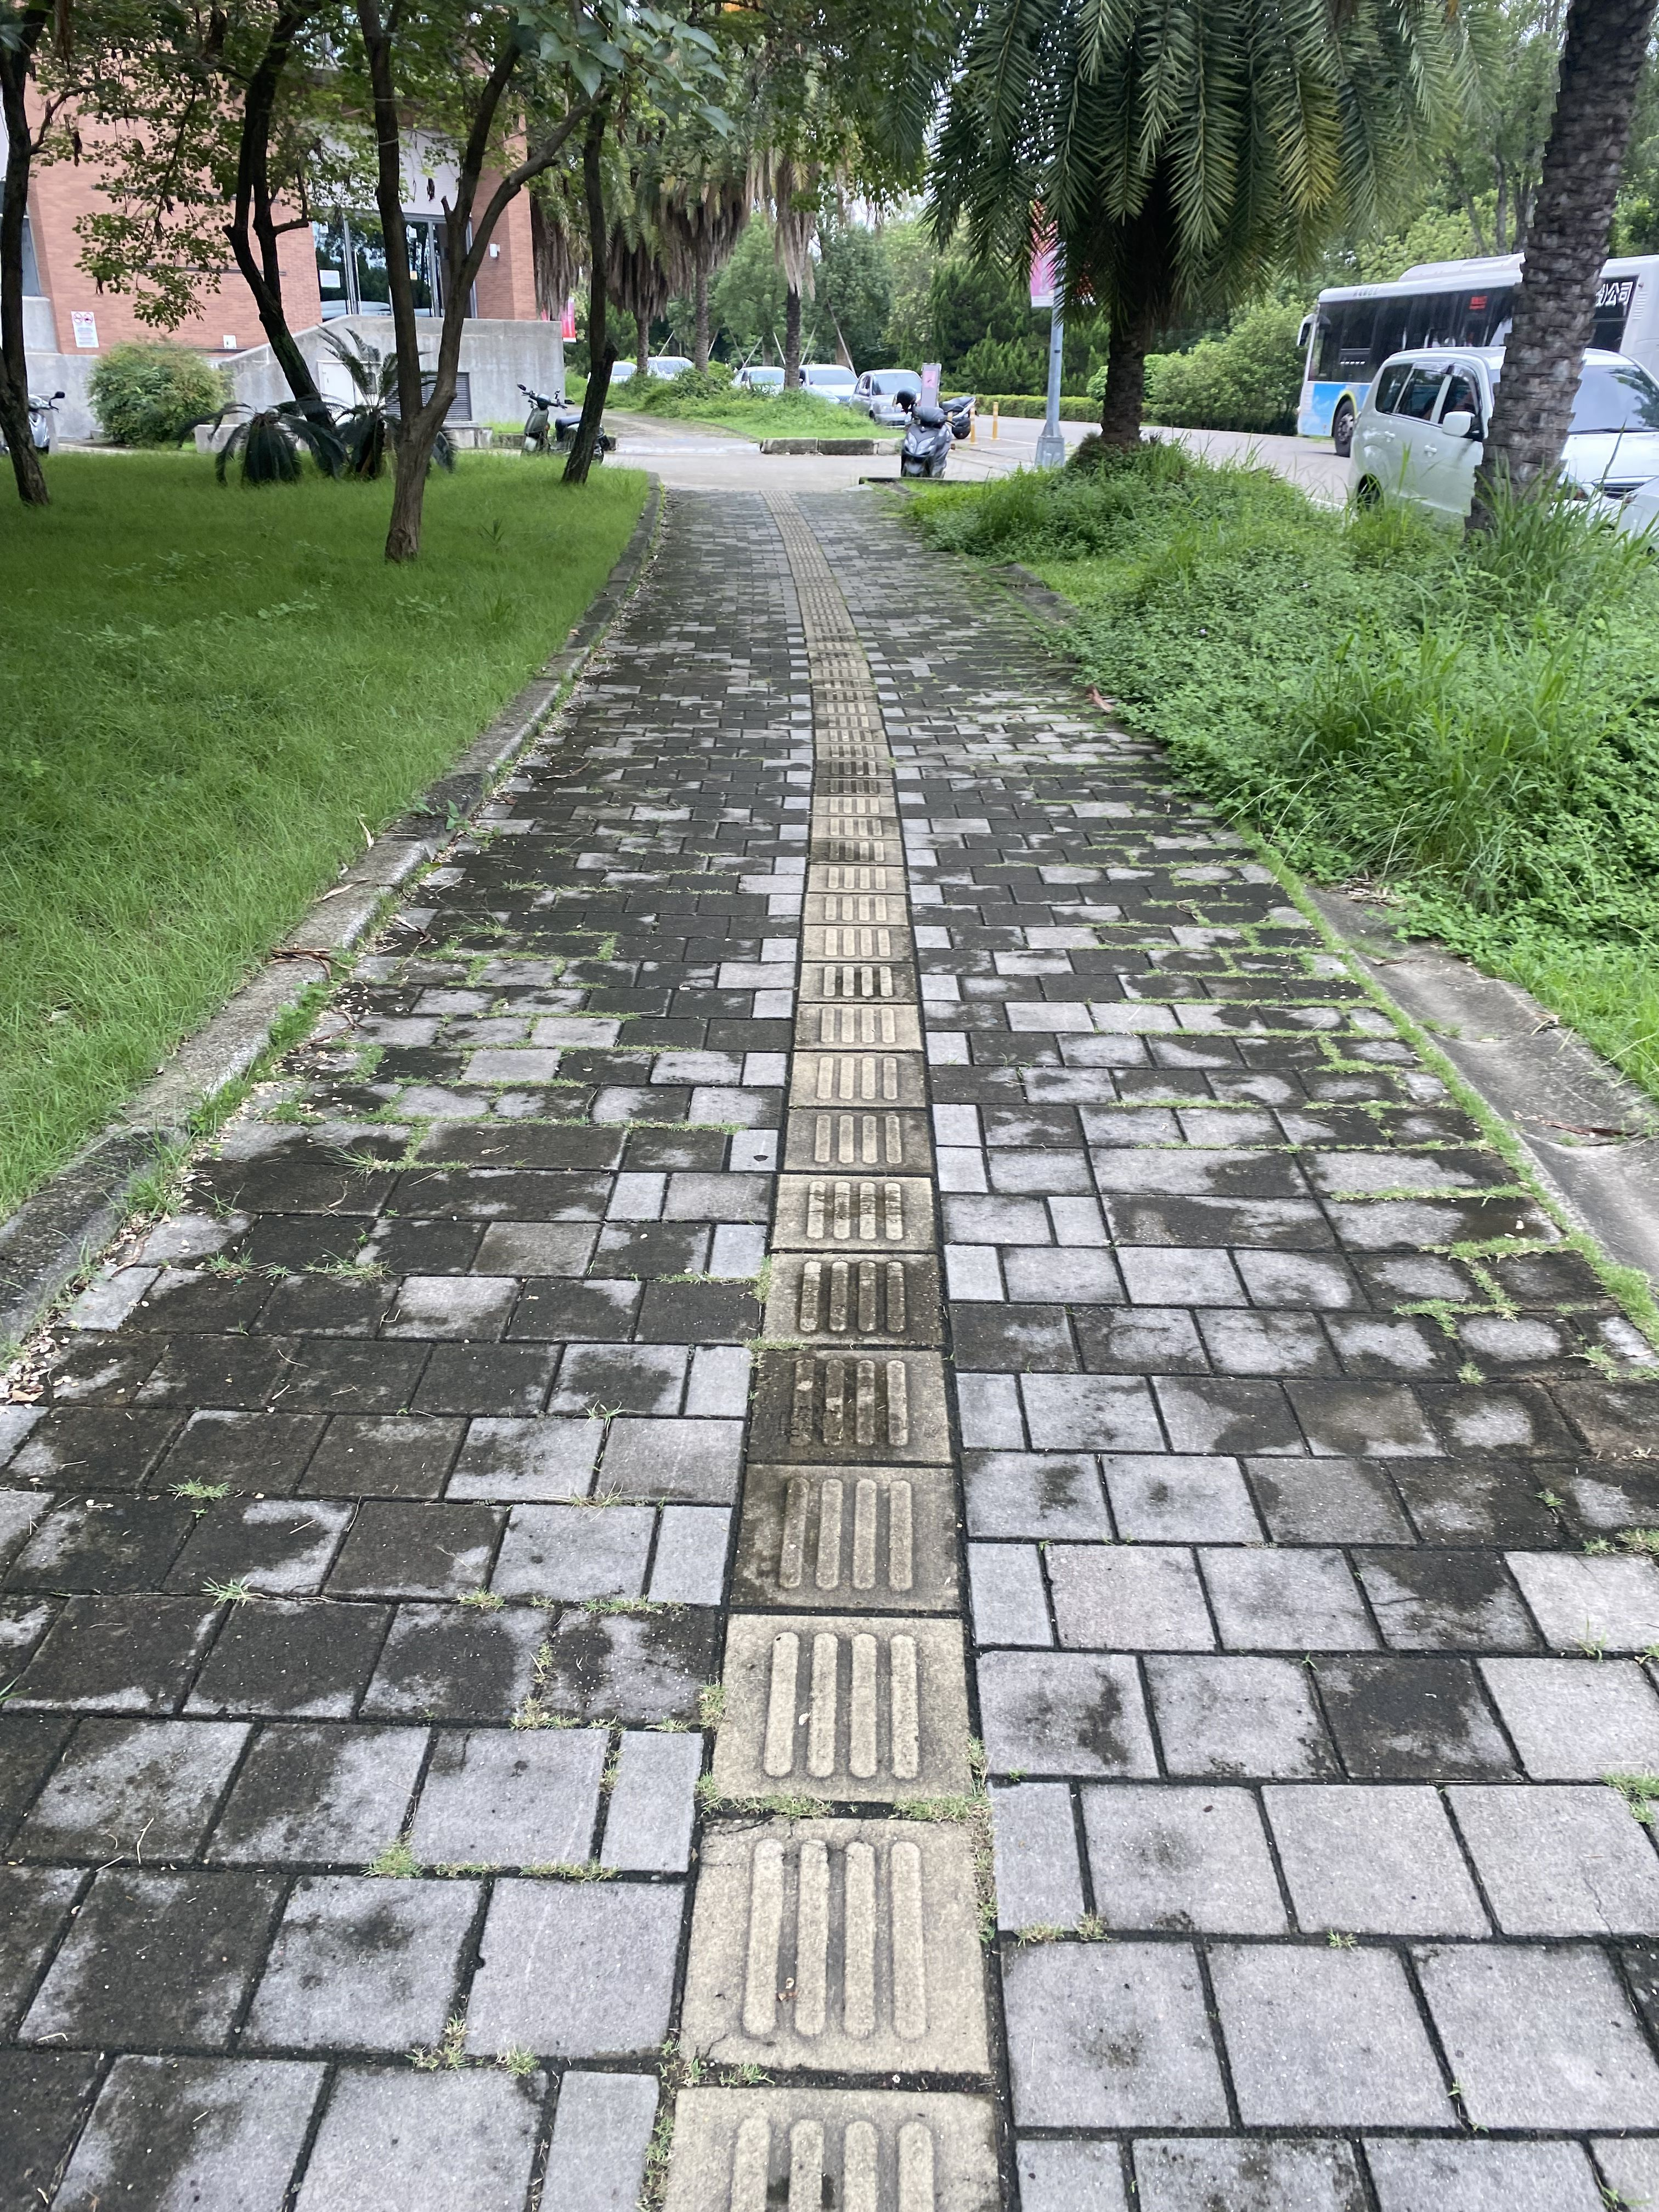sidewalk: (0, 486, 1659, 2212)
